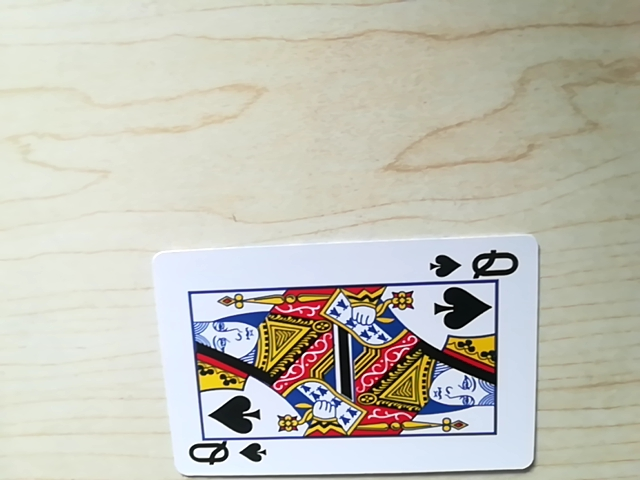ht q: (426, 246, 522, 282), (182, 435, 261, 472)
